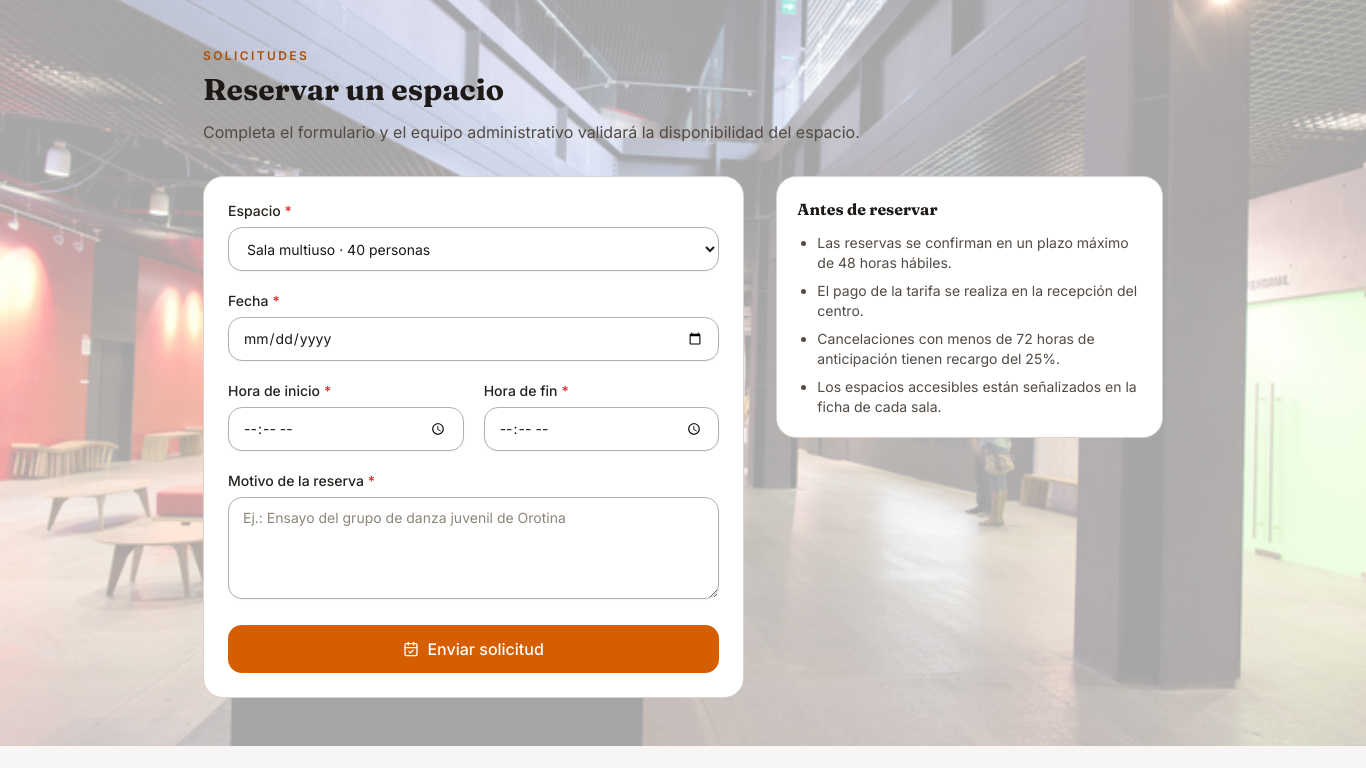
it: Reservas page › submits a valid reservation for the signed-in user
Select "Sala multiuso · 40 personas" in the dropdown labelled "Espacio *" at {"x": 474, "y": 249}, box [228, 227, 719, 271]
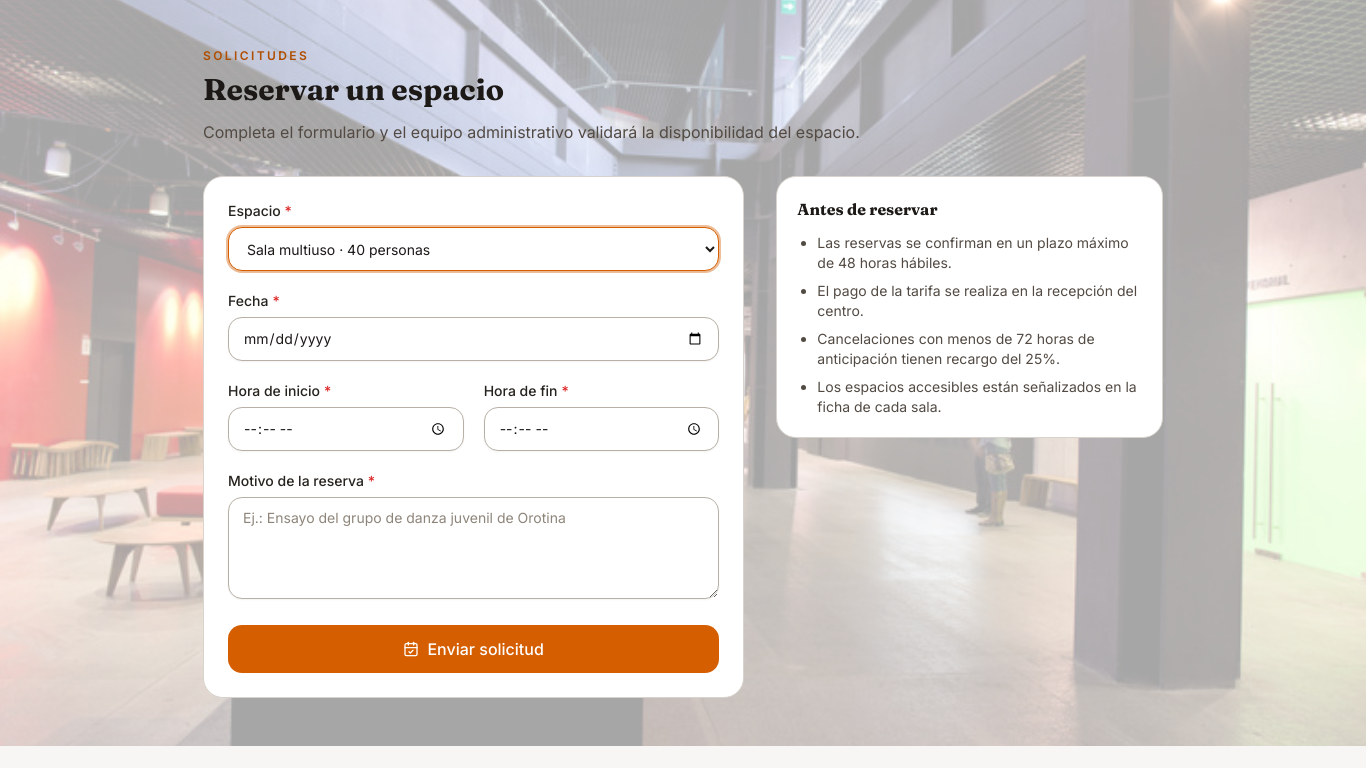
Type "2026-10-12" into the date field labelled "Fecha*".
click(474, 339); type("2026-10-12")  # box [228, 317, 719, 361]
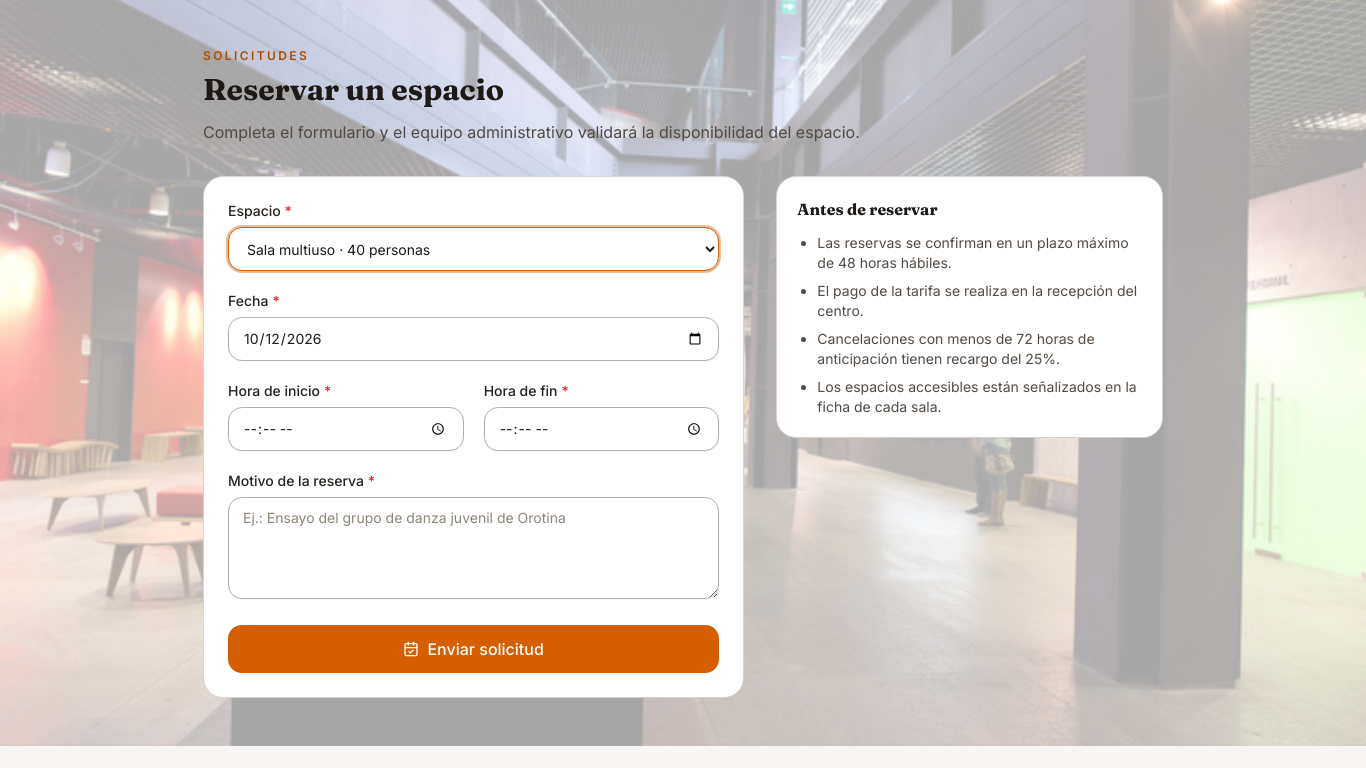
Type "10:00" into the time field labelled "Hora de inicio*".
click(346, 429); type("10:00")  # box [228, 407, 464, 451]
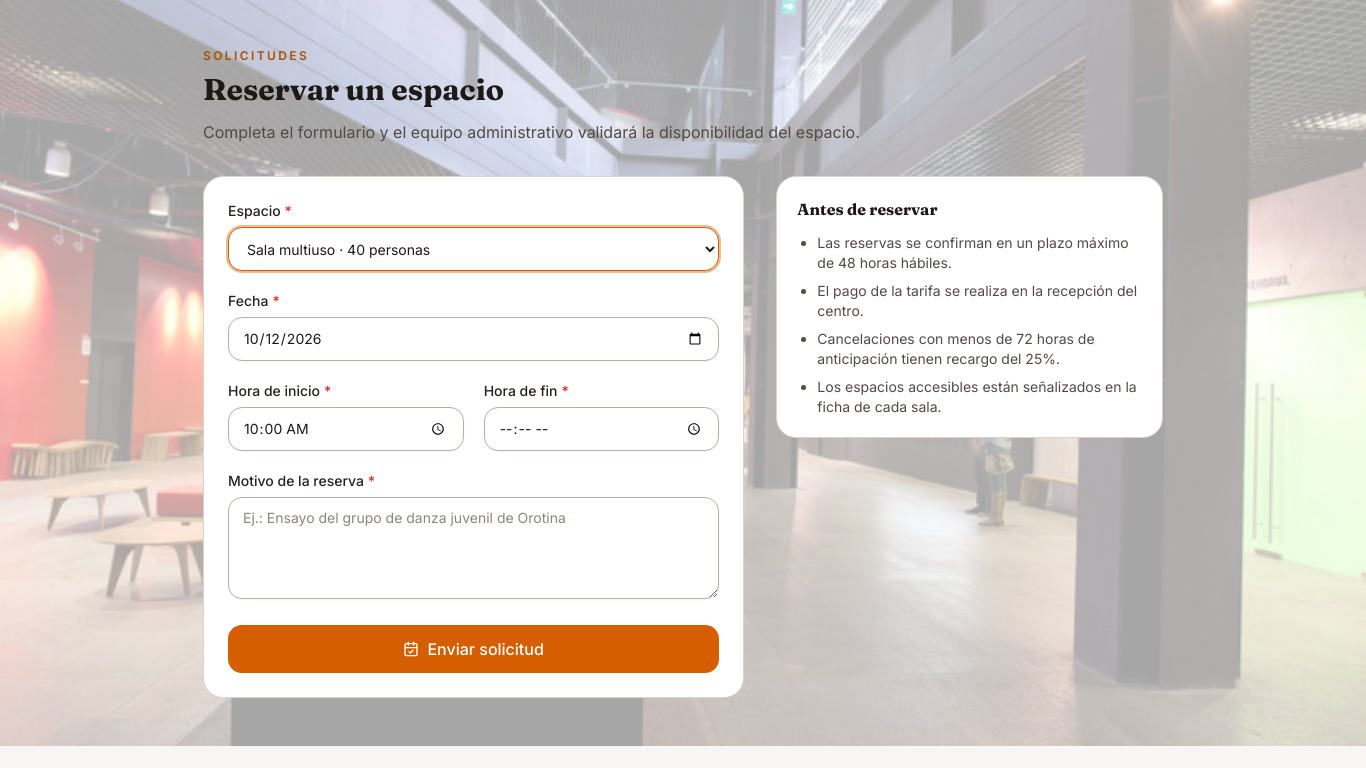
Type "11:00" into the time field labelled "Hora de fin*".
click(602, 429); type("11:00")  # box [484, 407, 719, 451]
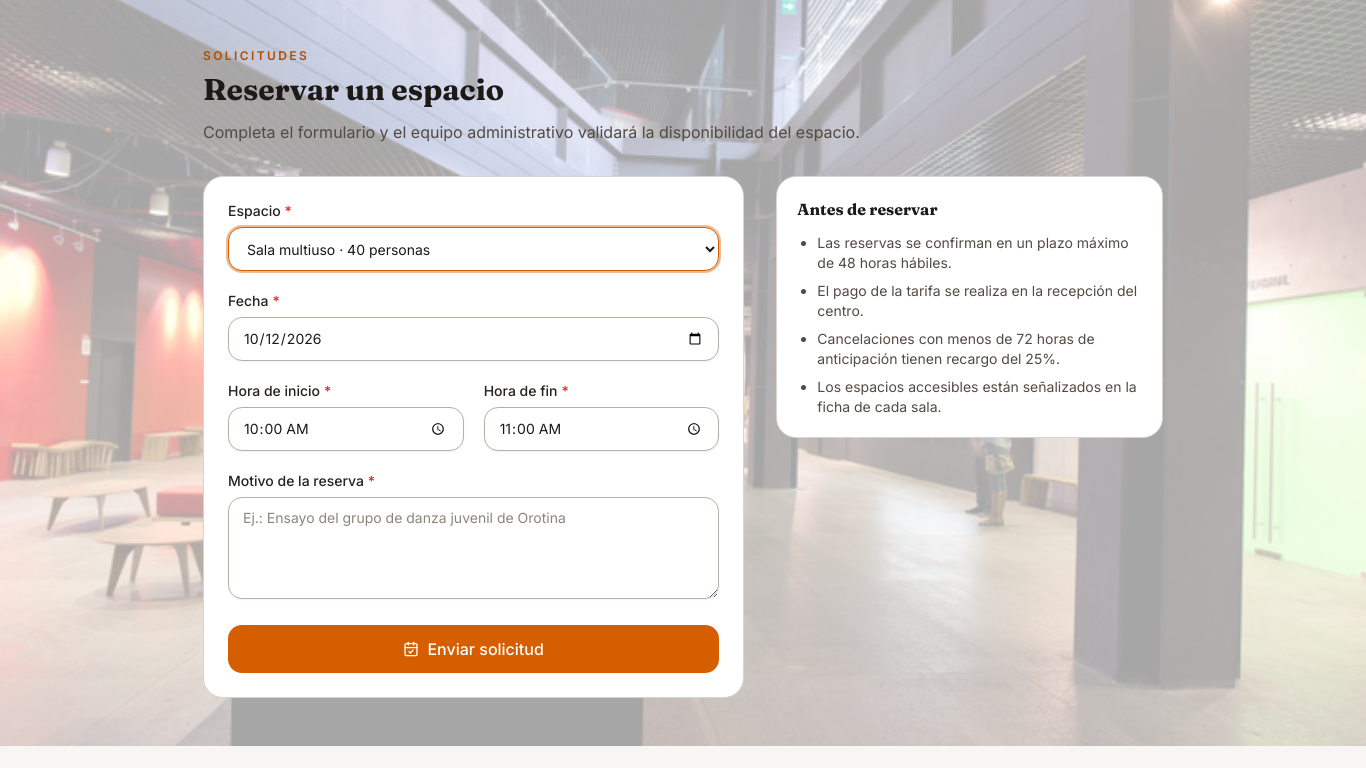
Type "Ensayo del grupo juvenil" into the text box labelled "Motivo de la reserva *".
click(474, 548); type("Ensayo del grupo juvenil")  # box [228, 497, 719, 599]
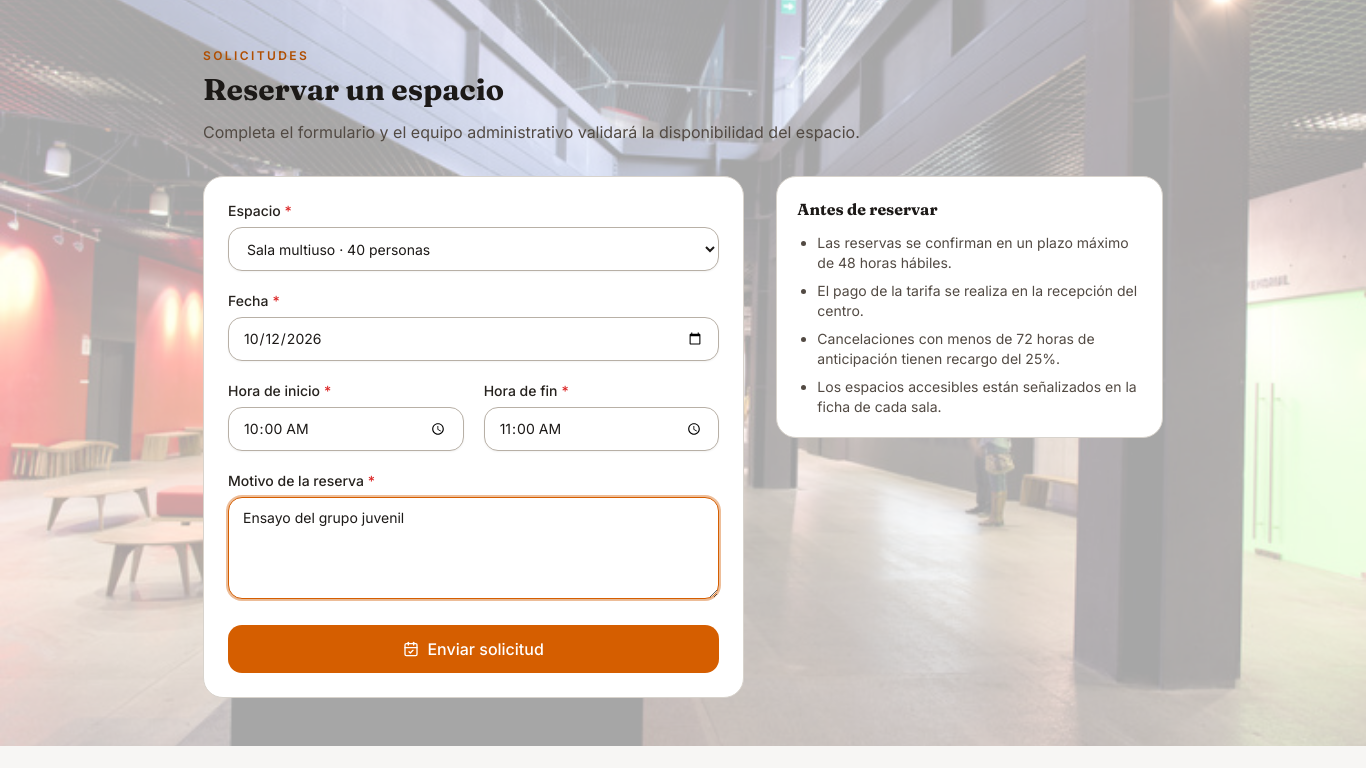
Click the button "Enviar solicitud".
click(474, 649)  # box [228, 625, 719, 673]
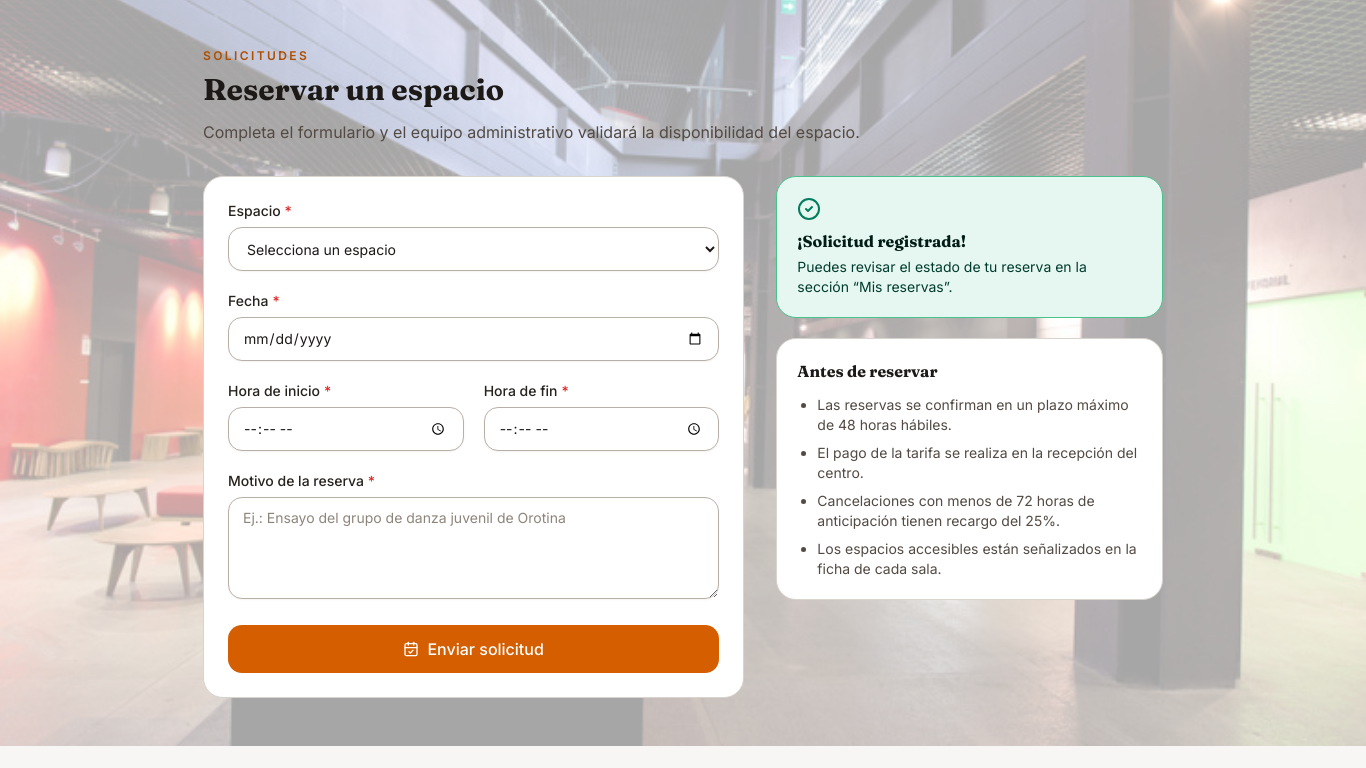
Result: the message shows "¡Solicitud registrada!" at [797, 231, 966, 251]
